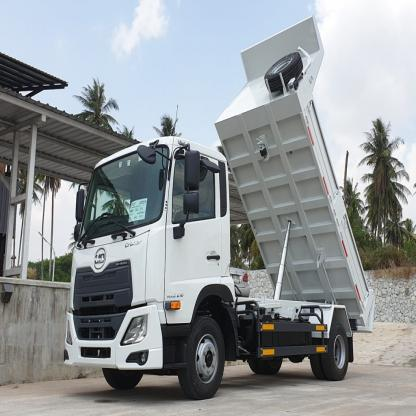dump_truck: (57, 13, 376, 398)
